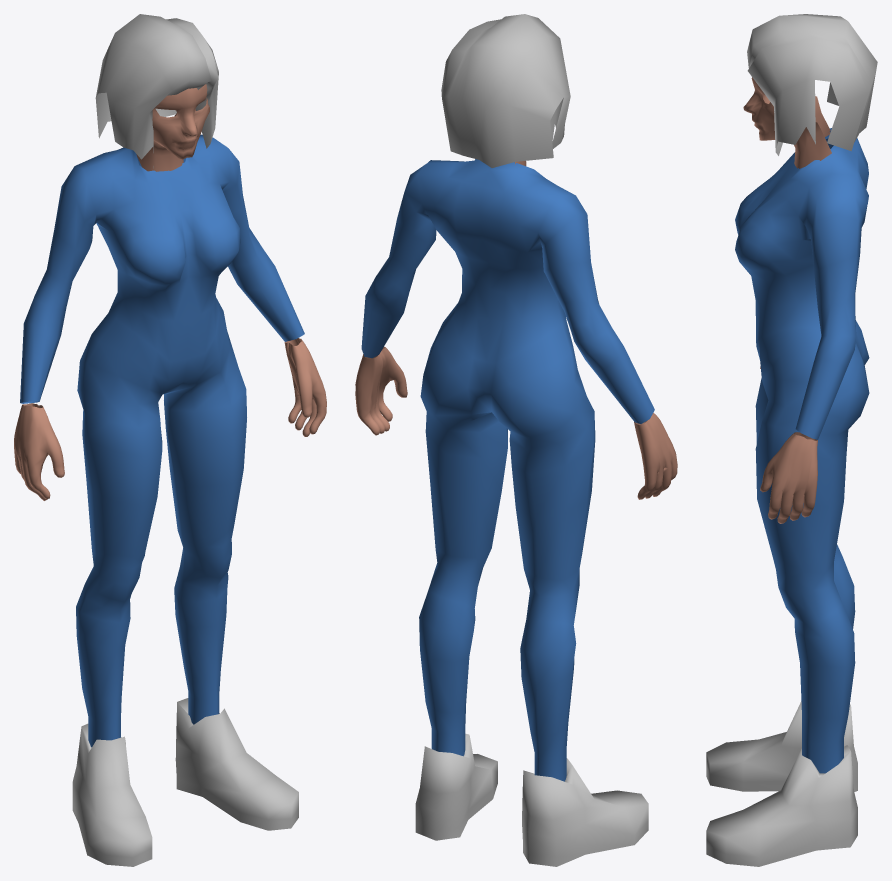
3 renders of one model, left to right at view 1: azimuth 30°, elevation 25°; view 2: azimuth 150°, elevation 25°; view 3: azimuth 270°, elevation 25°, orthographic. The views are drawn at different scales.
Visible parts, largest first — view 1: FACE_UPDATE_Plane.002; view 2: FACE_UPDATE_Plane.002; view 3: FACE_UPDATE_Plane.002.
Part boxes in pixels (x1,y1,x2,y2): FACE_UPDATE_Plane.002: (14, 14, 326, 866); FACE_UPDATE_Plane.002: (355, 14, 677, 866); FACE_UPDATE_Plane.002: (706, 14, 877, 866).
Size of the model in its own units: 65.92 by 168 by 32.54.
